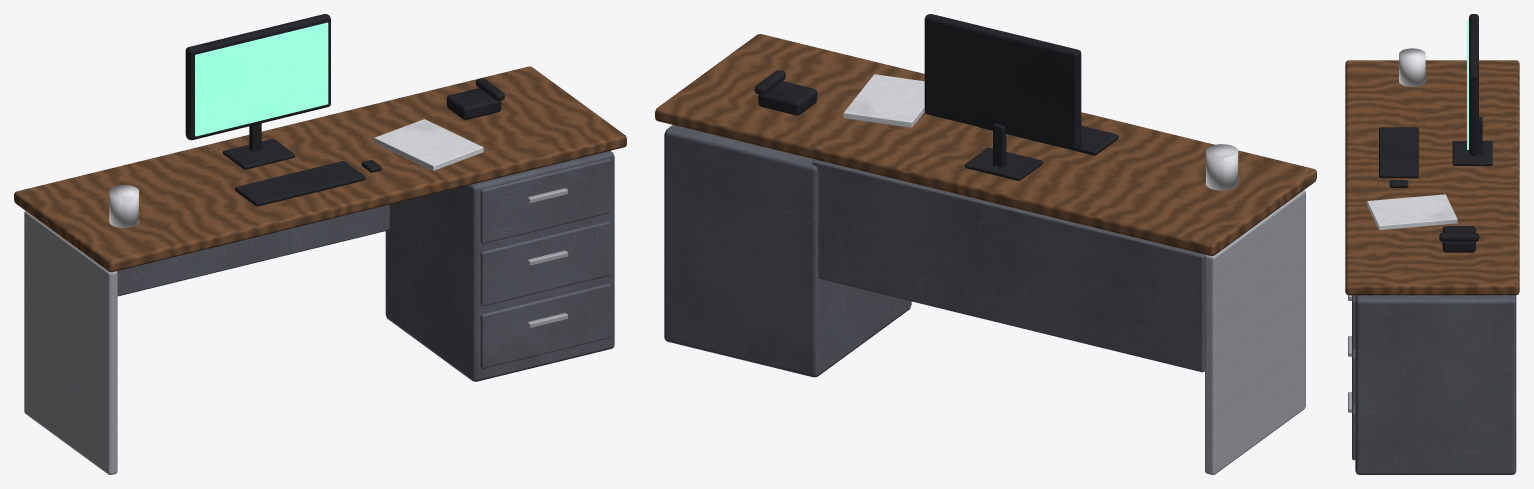
Rendered from OfficeDesk.glb.
The picture shows the model from 3 angles, left to right: view 1: azimuth 30°, elevation 25°; view 2: azimuth 150°, elevation 25°; view 3: azimuth 270°, elevation 25°; orthographic projection. The views are drawn at different scales.
Visible parts, largest first — view 1: OfficeDesk_MetalGrey, OfficeDesk_Wood, OfficeDesk_Steel, OfficeDesk_PlasticDark_glow, OfficeDesk_PlasticDark, OfficeDesk_PlasticWhite; view 2: OfficeDesk_MetalGrey, OfficeDesk_Wood, OfficeDesk_Steel, OfficeDesk_PlasticDark, OfficeDesk_PlasticWhite; view 3: OfficeDesk_Wood, OfficeDesk_MetalGrey, OfficeDesk_PlasticDark, OfficeDesk_PlasticWhite, OfficeDesk_PlasticDark_glow.
Boxes of the visible parts, left/top/right/bottom form: OfficeDesk_MetalGrey: left=117, top=150, right=614, bottom=381; OfficeDesk_Wood: left=14, top=66, right=626, bottom=272; OfficeDesk_Steel: left=24, top=188, right=567, bottom=474; OfficeDesk_PlasticDark_glow: left=195, top=22, right=328, bottom=136; OfficeDesk_PlasticDark: left=185, top=14, right=504, bottom=206; OfficeDesk_PlasticWhite: left=109, top=119, right=483, bottom=227; OfficeDesk_MetalGrey: left=664, top=125, right=1205, bottom=377; OfficeDesk_Wood: left=655, top=34, right=1316, bottom=255; OfficeDesk_Steel: left=1205, top=190, right=1305, bottom=474; OfficeDesk_PlasticDark: left=754, top=14, right=1118, bottom=180; OfficeDesk_PlasticWhite: left=843, top=74, right=1238, bottom=190; OfficeDesk_Wood: left=1345, top=60, right=1519, bottom=295; OfficeDesk_MetalGrey: left=1352, top=295, right=1516, bottom=474; OfficeDesk_PlasticDark: left=1379, top=14, right=1492, bottom=252; OfficeDesk_PlasticWhite: left=1367, top=48, right=1457, bottom=230; OfficeDesk_PlasticDark_glow: left=1467, top=19, right=1468, bottom=149.
Bounding box in the file's own units: 8 × 5.07 × 2.6.
Materials: 6 (6 with a texture image).
